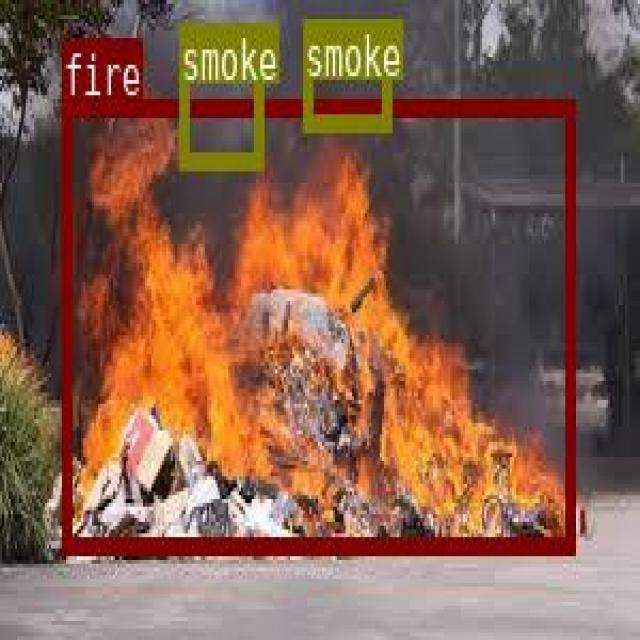fire: (60, 96, 572, 549)
smoke: (178, 20, 261, 167), (302, 17, 390, 126)
